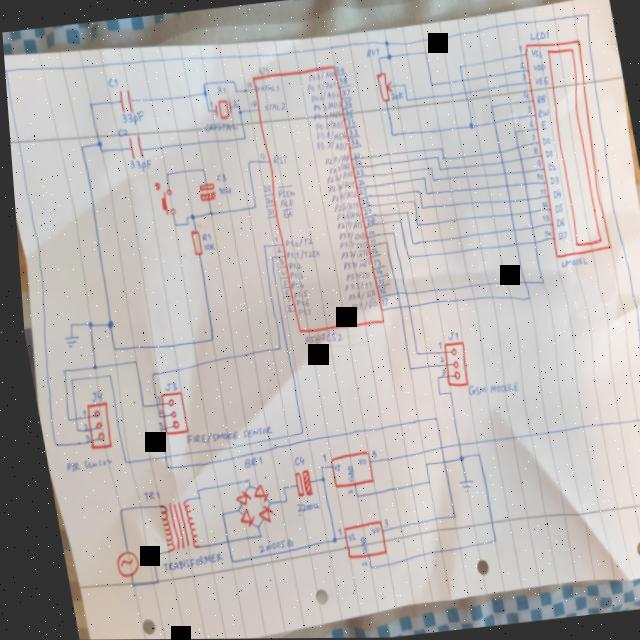capacitor: (285, 468, 306, 497), (193, 181, 214, 203), (115, 89, 133, 114), (125, 134, 142, 160)
crossover: (432, 457, 441, 468), (524, 223, 532, 232), (521, 195, 529, 204), (460, 89, 468, 97), (488, 119, 496, 127), (514, 155, 522, 163), (496, 159, 504, 167), (518, 181, 526, 189), (502, 198, 510, 206), (516, 279, 524, 287), (215, 536, 222, 545), (522, 208, 529, 217), (528, 238, 535, 247), (458, 77, 465, 85), (494, 148, 501, 156), (512, 144, 519, 152), (507, 226, 514, 234), (517, 168, 524, 176), (499, 170, 506, 178), (501, 182, 508, 190), (504, 211, 511, 219), (509, 241, 516, 249), (155, 454, 162, 460), (392, 304, 398, 310), (449, 442, 455, 448), (431, 445, 437, 451), (148, 401, 154, 407), (399, 290, 404, 296), (401, 303, 406, 309), (67, 416, 72, 422), (390, 291, 395, 296)
diode: (229, 506, 248, 528), (248, 503, 267, 524), (243, 483, 262, 504), (226, 489, 245, 507)
ground: (57, 332, 75, 349), (450, 479, 468, 493)
junction: (100, 319, 109, 330), (450, 452, 458, 464), (465, 120, 473, 131), (93, 139, 101, 149), (81, 320, 89, 329), (133, 401, 141, 410), (248, 202, 256, 211), (203, 335, 211, 344), (534, 278, 542, 287), (242, 158, 250, 167), (400, 364, 408, 373), (45, 439, 53, 448), (384, 52, 392, 61), (414, 460, 422, 469), (583, 11, 591, 20), (467, 450, 475, 459), (238, 134, 246, 143), (85, 99, 92, 109), (185, 212, 193, 220), (381, 39, 389, 47), (144, 577, 152, 585), (109, 506, 116, 515), (442, 512, 449, 521), (425, 415, 432, 424), (105, 344, 112, 353), (126, 357, 133, 366), (204, 209, 211, 218), (219, 556, 226, 565), (75, 142, 82, 151), (407, 349, 414, 358), (322, 535, 329, 544), (311, 476, 319, 483), (418, 479, 425, 487), (211, 509, 218, 517), (486, 104, 493, 112), (62, 321, 70, 328), (120, 580, 127, 588), (456, 63, 463, 71), (85, 363, 93, 370), (421, 50, 428, 57), (270, 345, 277, 351), (401, 253, 407, 260), (197, 167, 203, 173), (483, 537, 489, 543), (115, 458, 121, 464), (429, 375, 435, 381), (235, 109, 241, 115), (441, 390, 447, 396), (59, 416, 65, 422), (67, 427, 73, 433), (101, 372, 107, 378), (144, 371, 150, 377), (359, 564, 365, 570), (162, 171, 167, 177), (258, 244, 263, 250), (142, 551, 147, 557), (169, 222, 174, 228), (637, 413, 640, 423), (157, 464, 162, 470), (406, 240, 411, 246), (187, 487, 192, 493), (425, 166, 431, 171), (55, 368, 61, 373), (188, 495, 194, 500), (200, 81, 206, 86), (201, 90, 206, 96), (151, 427, 157, 432), (521, 296, 527, 301), (511, 130, 516, 136), (430, 392, 435, 397), (427, 83, 432, 88), (411, 222, 416, 227), (312, 465, 317, 470), (275, 499, 280, 504), (274, 486, 279, 491), (266, 255, 271, 260), (438, 156, 443, 161), (387, 230, 392, 235), (63, 377, 68, 382), (246, 524, 251, 529), (260, 500, 265, 505), (232, 89, 237, 94), (375, 56, 380, 61), (150, 414, 155, 419), (435, 167, 439, 172), (421, 192, 426, 196), (231, 80, 235, 85), (4, 67, 7, 73), (387, 133, 391, 137), (437, 147, 441, 151), (401, 83, 405, 87), (403, 98, 407, 102), (433, 155, 437, 159), (428, 179, 432, 183), (419, 176, 423, 180), (414, 190, 418, 194), (417, 207, 421, 211), (409, 200, 413, 204), (402, 211, 406, 215), (395, 220, 399, 224), (380, 241, 384, 245), (347, 494, 351, 498), (97, 149, 101, 153), (250, 534, 254, 538), (239, 478, 243, 482), (240, 484, 244, 488), (293, 430, 297, 434), (235, 104, 239, 108), (182, 215, 185, 220), (182, 221, 185, 225), (229, 508, 232, 512), (205, 108, 208, 112)
resistor: (373, 71, 393, 102), (185, 228, 200, 257)
source: (105, 549, 131, 578)
switch: (155, 188, 174, 217)
terminal: (75, 400, 108, 450), (433, 340, 465, 389), (151, 390, 183, 436)
text: (177, 425, 268, 446), (152, 551, 216, 572), (460, 379, 514, 398), (57, 455, 106, 472), (297, 331, 339, 347), (247, 537, 285, 553), (280, 247, 316, 262), (201, 120, 237, 134), (314, 139, 346, 154), (313, 129, 345, 144), (307, 89, 339, 104), (344, 298, 373, 314), (326, 189, 355, 204), (322, 170, 351, 185), (341, 289, 372, 303), (337, 257, 367, 271), (334, 238, 364, 252), (118, 110, 144, 126), (312, 119, 344, 132), (309, 110, 341, 123), (304, 80, 336, 93), (555, 255, 584, 269), (336, 247, 365, 261), (333, 229, 362, 243), (332, 218, 361, 232), (329, 200, 357, 214), (280, 235, 310, 248), (338, 280, 368, 293), (310, 100, 340, 113), (126, 157, 150, 173), (305, 70, 334, 83), (331, 209, 359, 222), (324, 180, 352, 193), (320, 153, 348, 166), (258, 80, 280, 96), (261, 100, 285, 114), (527, 28, 550, 42), (340, 270, 366, 282), (273, 184, 292, 200), (287, 501, 312, 513), (235, 455, 256, 469), (324, 163, 348, 175), (268, 152, 286, 166), (135, 489, 153, 501), (337, 464, 348, 483), (287, 289, 305, 300), (83, 389, 98, 402), (349, 535, 359, 554), (363, 47, 379, 58), (532, 76, 547, 87), (290, 297, 305, 308), (285, 279, 300, 290), (534, 108, 549, 119), (256, 64, 268, 77), (440, 330, 453, 342), (105, 76, 117, 89), (157, 381, 171, 392), (114, 126, 128, 137), (214, 185, 229, 195), (214, 84, 226, 96), (291, 308, 307, 317), (275, 199, 291, 208), (528, 49, 541, 60), (277, 207, 290, 218), (388, 91, 402, 101), (283, 261, 298, 270), (284, 271, 299, 280), (349, 457, 361, 468), (533, 93, 545, 104), (286, 455, 297, 467), (212, 172, 224, 183), (548, 188, 559, 200), (549, 203, 561, 214), (531, 63, 544, 73), (258, 184, 269, 195), (551, 217, 562, 228), (553, 231, 564, 242), (361, 448, 371, 460), (346, 137, 358, 147), (545, 176, 557, 186), (538, 228, 548, 239), (254, 152, 264, 163), (332, 65, 343, 75), (336, 76, 347, 86), (340, 98, 351, 108), (341, 108, 352, 118), (343, 118, 354, 128), (361, 216, 372, 226), (539, 136, 549, 147), (354, 188, 366, 197), (199, 242, 211, 251), (353, 178, 363, 188), (362, 525, 372, 535), (544, 162, 554, 172), (345, 128, 356, 137), (375, 296, 384, 307), (197, 232, 208, 241), (325, 463, 334, 473), (339, 89, 349, 98), (368, 258, 378, 267), (261, 196, 271, 205), (541, 149, 550, 159), (517, 61, 526, 71), (149, 420, 157, 431), (247, 98, 255, 109), (373, 518, 381, 529), (520, 90, 528, 101), (532, 172, 541, 181), (352, 168, 361, 177), (357, 197, 366, 206), (359, 207, 368, 216), (363, 228, 372, 237), (372, 277, 381, 286), (339, 532, 348, 541), (535, 188, 544, 197), (76, 433, 84, 443), (263, 207, 271, 217), (538, 120, 545, 131), (338, 487, 346, 496), (349, 151, 357, 160), (366, 247, 375, 255), (374, 286, 382, 295), (273, 257, 281, 266), (75, 422, 83, 431), (523, 105, 531, 114), (538, 214, 546, 223), (350, 159, 360, 166), (371, 267, 378, 277), (351, 560, 359, 568), (364, 238, 372, 246), (271, 246, 279, 254), (537, 201, 545, 209), (434, 368, 441, 377), (244, 81, 251, 90), (431, 342, 438, 351), (518, 73, 525, 82), (314, 453, 320, 463), (432, 356, 439, 364), (277, 279, 284, 287), (529, 147, 536, 155), (526, 120, 532, 129), (150, 395, 155, 405), (230, 99, 237, 106), (74, 409, 80, 417), (533, 160, 539, 168), (270, 235, 275, 244), (328, 527, 333, 536), (279, 288, 285, 295), (151, 408, 157, 415), (276, 269, 281, 277), (207, 100, 212, 108), (528, 134, 533, 142), (517, 45, 522, 53), (281, 306, 287, 312), (281, 297, 286, 303)
transformer: (149, 496, 192, 553)
